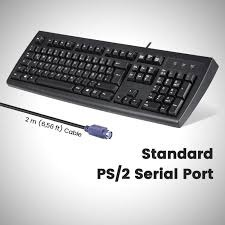keyboard: (1, 18, 215, 130)
